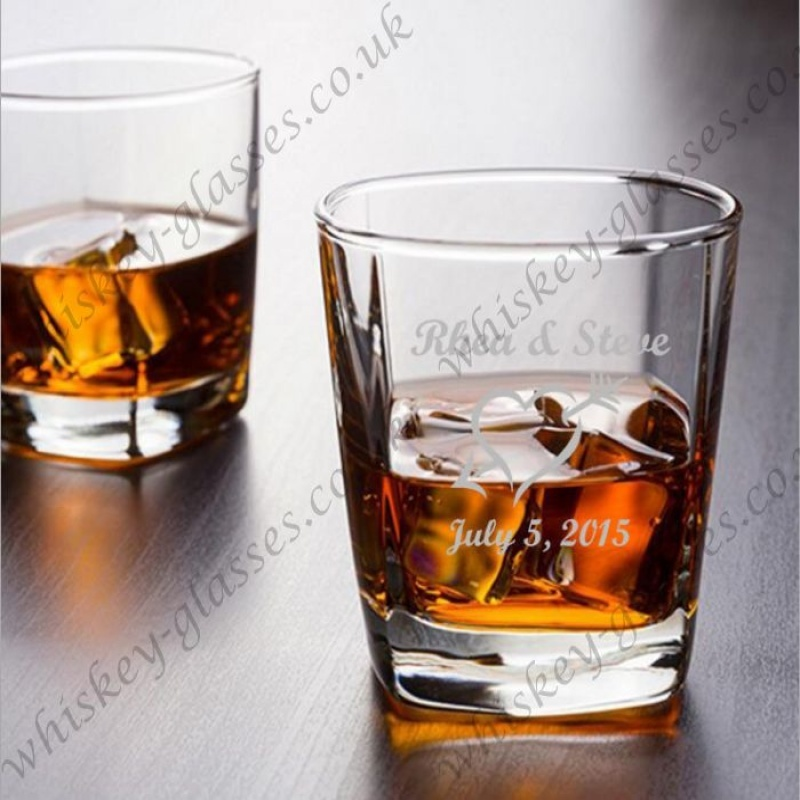whiskey: (320, 168, 702, 711), (6, 47, 255, 470)
